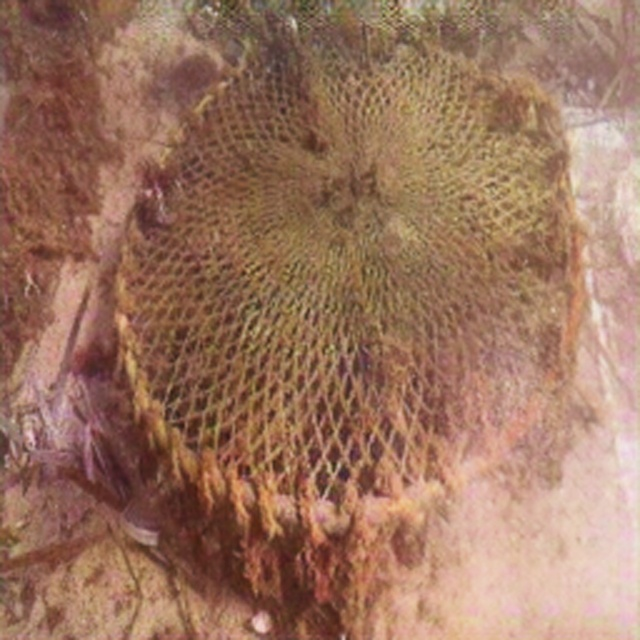mine: (114, 26, 583, 595)
